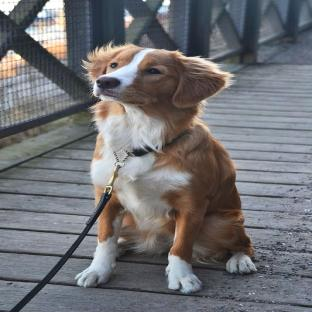Animal: (76, 43, 256, 293)
